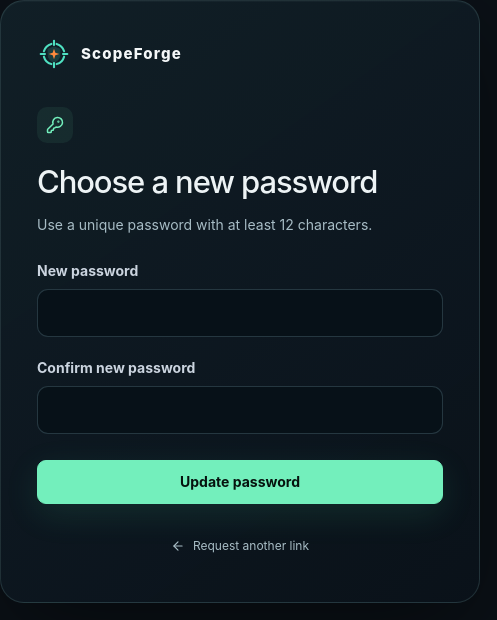
it: password recovery › updates a valid password and removes the form
Step 1. Type "correct-horse-battery" into the password field labelled "New password" → [240, 313], box [37, 289, 443, 337]
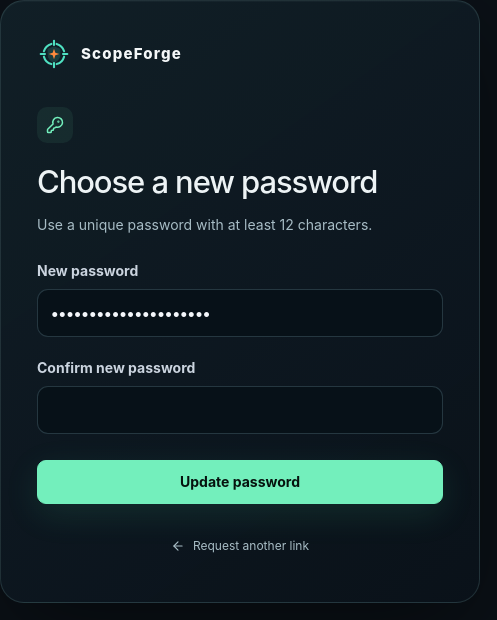
Step 2. Type "correct-horse-battery" into the password field labelled "Confirm new password" → [240, 410], box [37, 386, 443, 434]
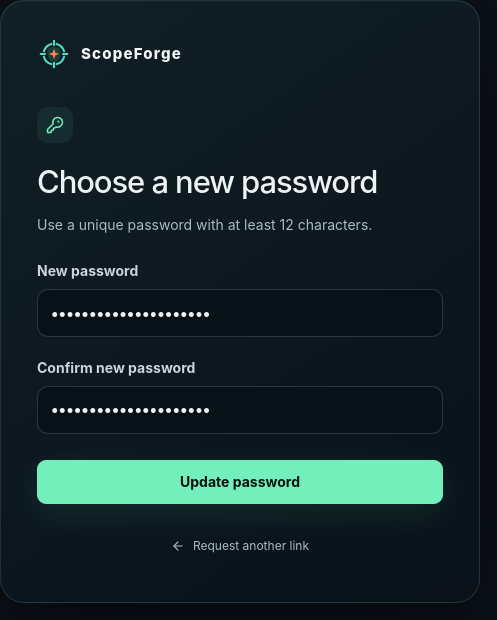
Step 3. Click the button "Update password" → [240, 482], box [37, 460, 443, 504]
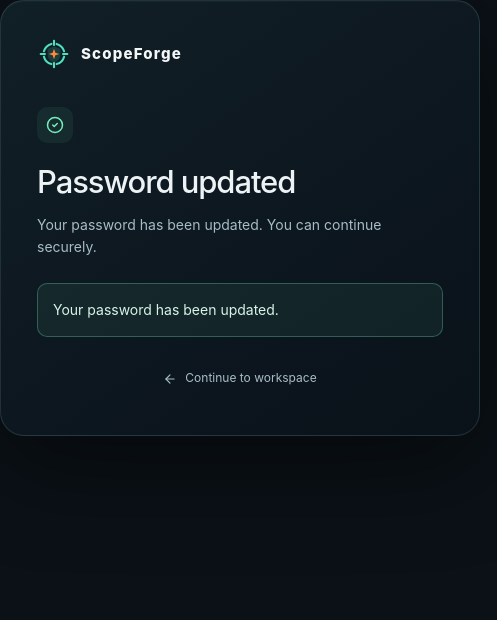
Expected: the message reads "Your password has been updated.", [53, 301, 279, 318]
Expected: the heading labelled "new password" is gone
